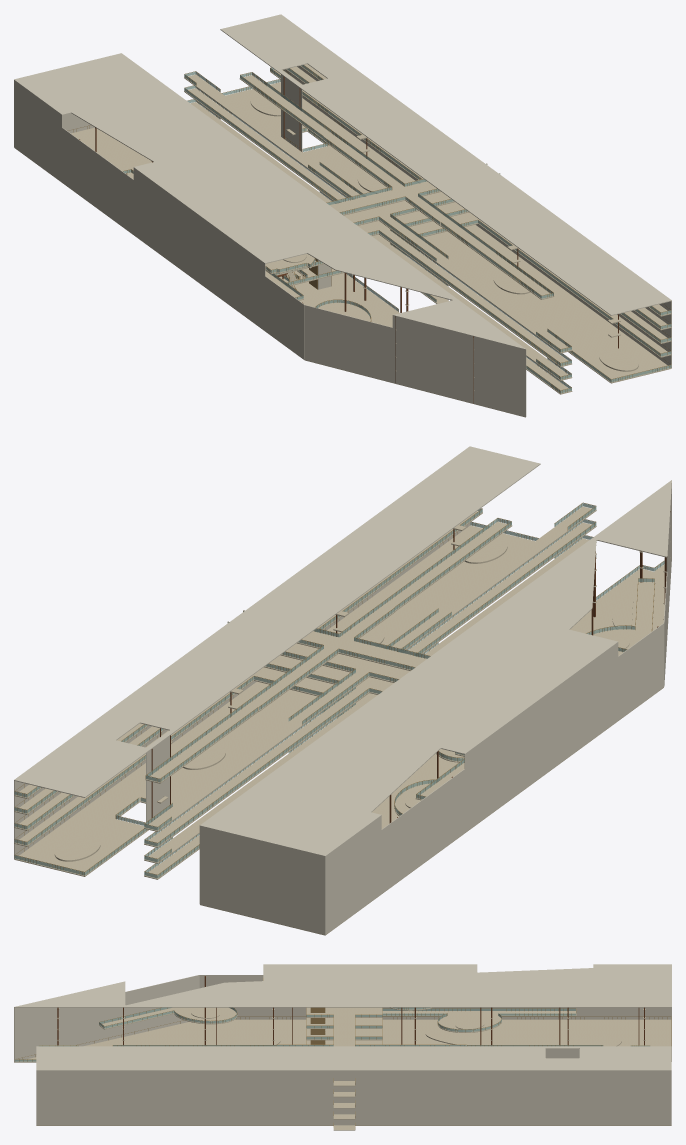
Rendered from SUNSET_ARCHITECTURE_lift_r003.glb.
3 views of the same model, one above another, from view 1: azimuth 30°, elevation 25°; view 2: azimuth 150°, elevation 25°; view 3: azimuth 270°, elevation 25° (orthographic). The views are drawn at different scales.
Parts seen in each view (by area): view 1: SC_Batch_282, SC_Batch_283, SC_Batch_1, SC_Batch_313, SC_Batch_310, SC_Batch_311, SC_Batch_312, SC_Batch_0, SC_Batch_303, SC_Batch_302, SC_Batch_301, SC_Batch_300 (+25 smaller); view 2: SC_Batch_282, SC_Batch_283, SC_Batch_1, SC_Batch_313, SC_Batch_310, SC_Batch_311, SC_Batch_312, SC_Batch_0, SC_Batch_38, SC_Batch_57, SC_Batch_18, SC_Batch_58 (+26 smaller); view 3: SC_Batch_316, SC_Batch_282, SC_Batch_283, SC_Batch_0, SC_Batch_310, SC_Batch_20, SC_Batch_303, SC_Batch_300, SC_Batch_302, SC_Batch_40, SC_Batch_301, SC_Batch_74 (+17 smaller).
Part boxes in pixels (bbox=[...]): SC_Batch_282: bbox=[14, 53, 525, 348]; SC_Batch_283: bbox=[220, 14, 671, 315]; SC_Batch_1: bbox=[225, 82, 671, 383]; SC_Batch_313: bbox=[14, 93, 304, 318]; SC_Batch_310: bbox=[14, 134, 304, 359]; SC_Batch_311: bbox=[14, 120, 304, 345]; SC_Batch_312: bbox=[14, 106, 304, 332]; SC_Batch_0: bbox=[14, 127, 525, 417]; SC_Batch_303: bbox=[304, 305, 526, 375]; SC_Batch_302: bbox=[304, 319, 526, 389]; SC_Batch_301: bbox=[304, 332, 526, 403]; SC_Batch_300: bbox=[304, 346, 526, 416]; SC_Batch_282: bbox=[200, 480, 671, 855]; SC_Batch_283: bbox=[14, 446, 540, 797]; SC_Batch_1: bbox=[14, 525, 534, 879]; SC_Batch_313: bbox=[325, 623, 664, 886]; SC_Batch_310: bbox=[325, 671, 664, 934]; SC_Batch_311: bbox=[325, 655, 664, 918]; SC_Batch_312: bbox=[325, 639, 664, 902]; SC_Batch_0: bbox=[200, 564, 664, 935]; SC_Batch_38: bbox=[14, 689, 369, 847]; SC_Batch_57: bbox=[14, 673, 369, 831]; SC_Batch_18: bbox=[14, 678, 361, 863]; SC_Batch_58: bbox=[388, 506, 596, 652]; SC_Batch_316: bbox=[36, 1070, 671, 1125]; SC_Batch_282: bbox=[14, 964, 671, 1007]; SC_Batch_283: bbox=[36, 1046, 671, 1070]; SC_Batch_0: bbox=[14, 1019, 671, 1130]; SC_Batch_310: bbox=[232, 1008, 671, 1019]; SC_Batch_20: bbox=[355, 1011, 576, 1044]; SC_Batch_303: bbox=[14, 975, 199, 1028]; SC_Batch_300: bbox=[14, 1014, 188, 1061]; SC_Batch_302: bbox=[14, 986, 199, 1039]; SC_Batch_40: bbox=[99, 1007, 333, 1040]; SC_Batch_301: bbox=[14, 1007, 173, 1050]; SC_Batch_74: bbox=[333, 1007, 355, 1086].
Size of the model in its own units: 96.09 by 22.5 by 241.
8 materials, 6 textured.
